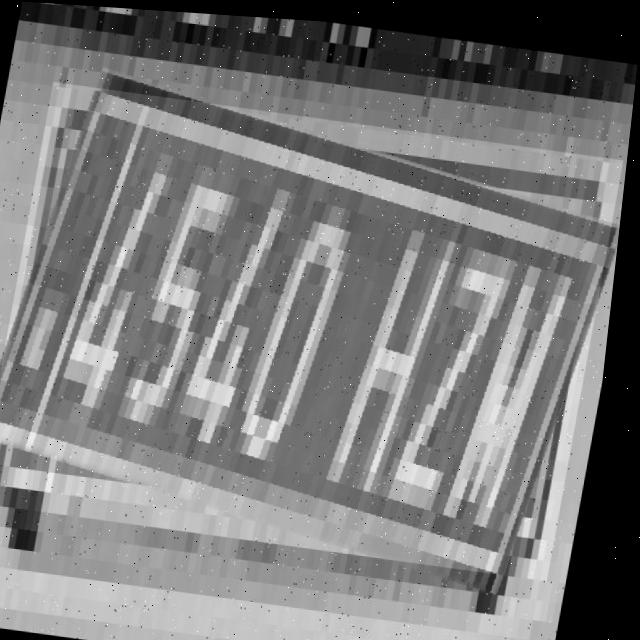LicensePlate: (0, 79, 629, 574)
